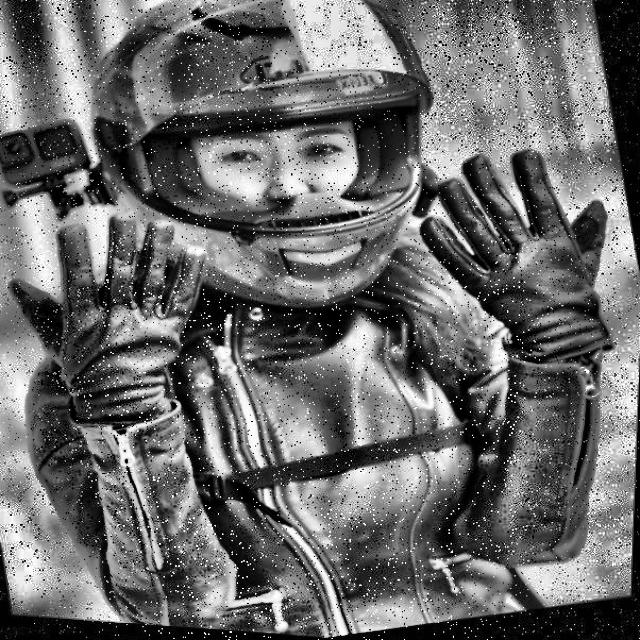Helmet: (56, 0, 489, 371)
